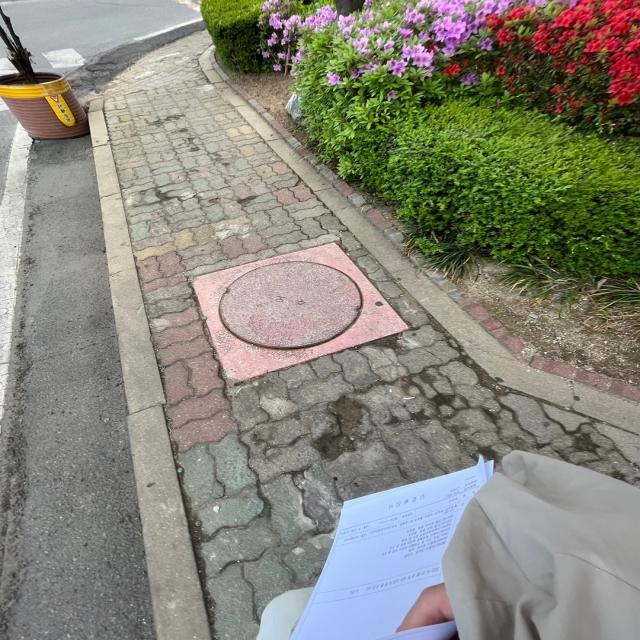Sewer Cover: (161, 244, 410, 385)
